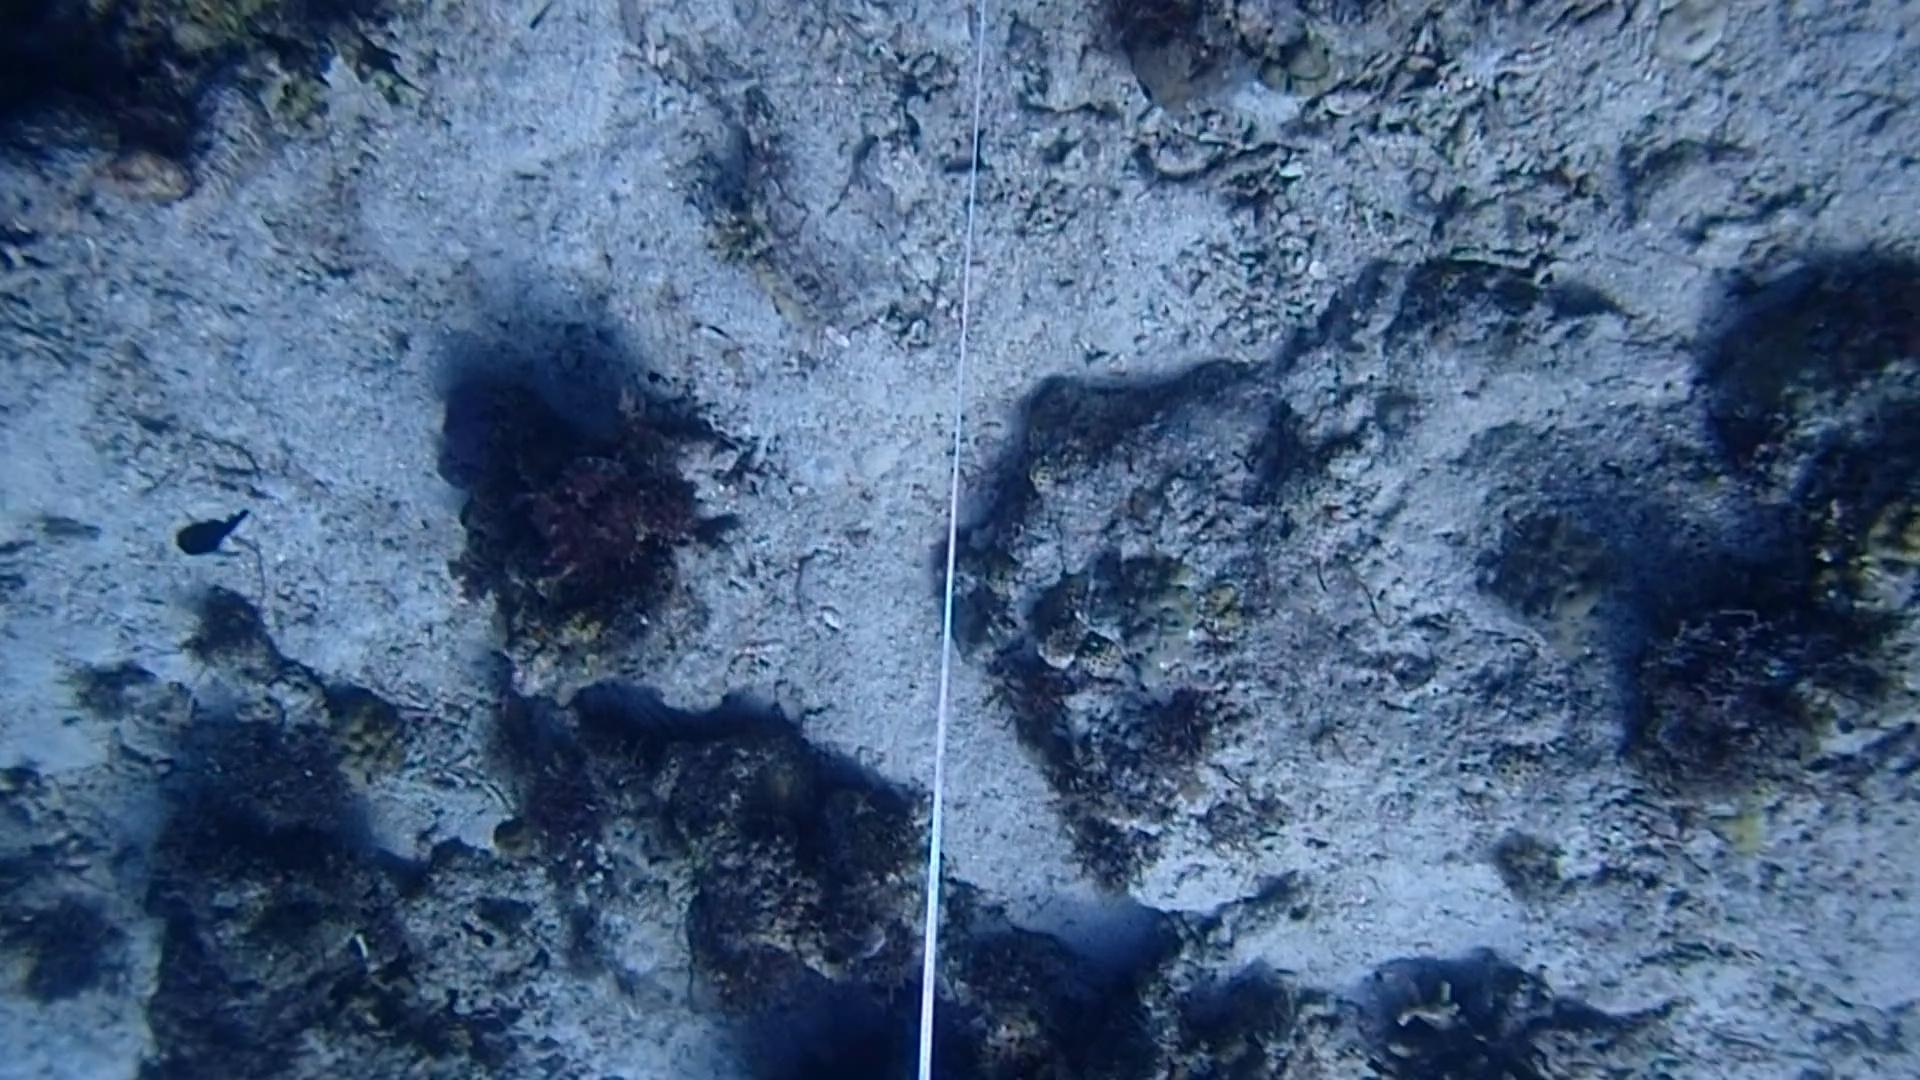Dark Fish: (162, 498, 262, 575)
